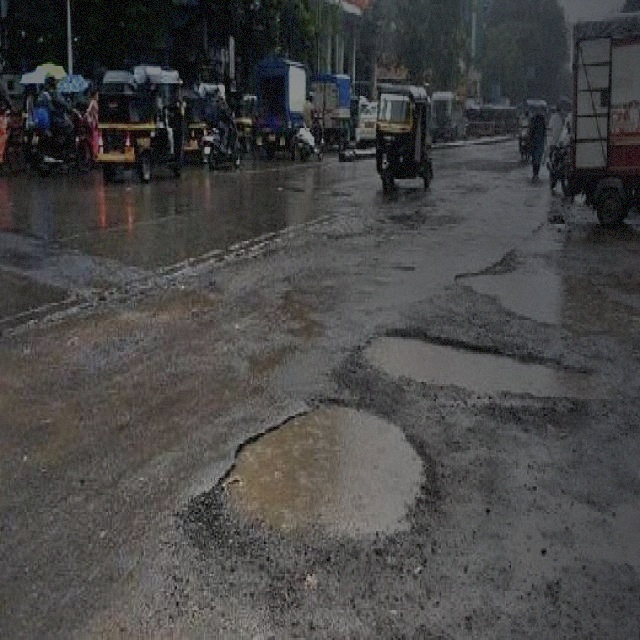pothole: (210, 390, 436, 542), (358, 324, 596, 401), (452, 262, 639, 342)
